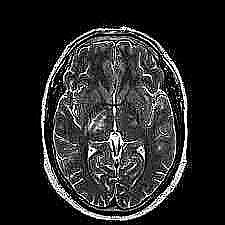Normal_Brain: (14, 12, 211, 222)
